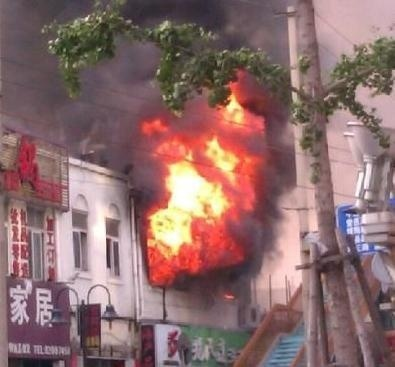fire: (147, 114, 255, 262), (218, 78, 247, 125)
